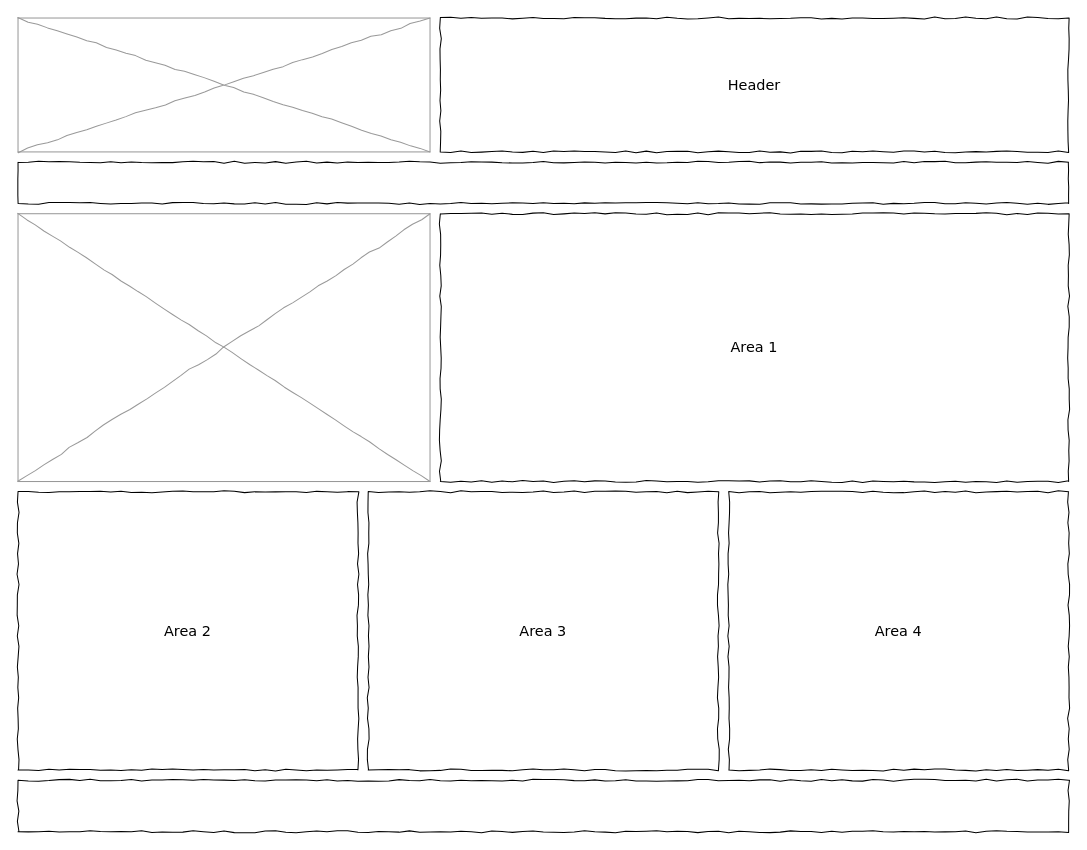
The diagram is 1087 pixels wide and 850 high, and some of its shapes have lost their labels. Here are the shapes that lost their labels. From the top down, the centre of each, then its label:
At pixel 223 84: "LOGO".
At pixel 543 182: "Navigation".
At pixel 543 805: "Footer".
